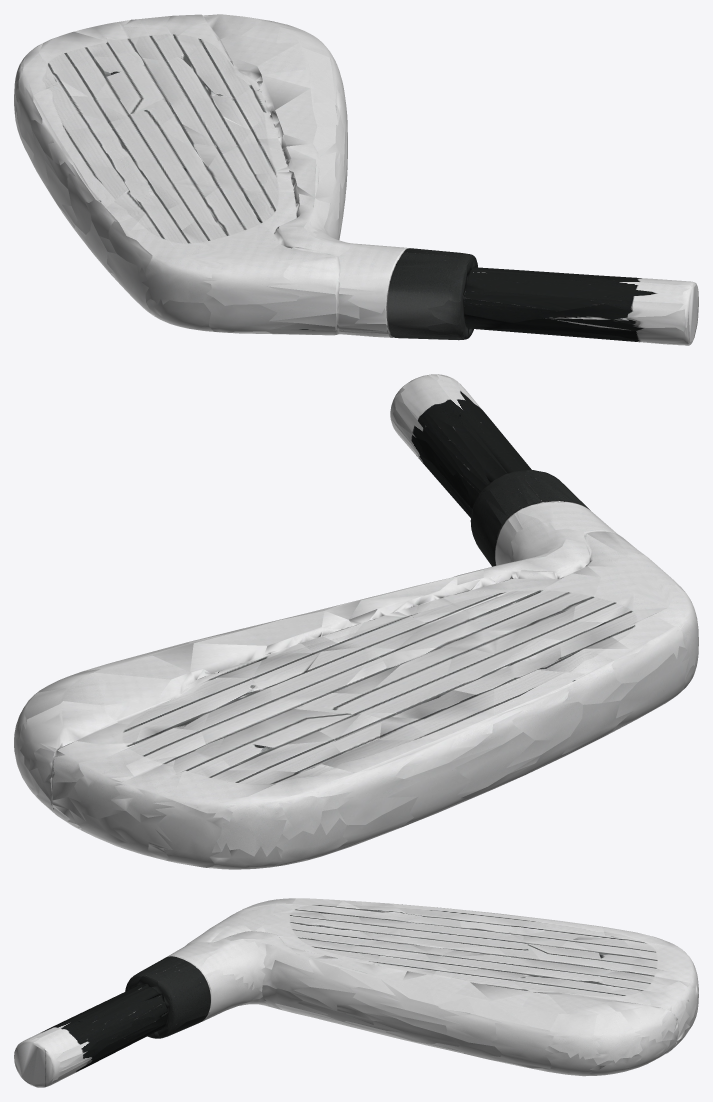
The model's file is club-iron.glb.
3 renders of one model, top to bottom at view 1: azimuth 30°, elevation 25°; view 2: azimuth 150°, elevation 25°; view 3: azimuth 270°, elevation 25°, orthographic. The views are drawn at different scales.
Visible parts, largest first — view 1: club-iron; view 2: club-iron; view 3: club-iron.
Part boxes in pixels (<box>): club-iron: <box>14,14,698,345</box>; club-iron: <box>14,374,698,869</box>; club-iron: <box>14,898,698,1087</box>.
Bounding box in the file's own units: 0.4916 × 0.0956 × 0.9212.
Materials: 1 (1 with a texture image).
